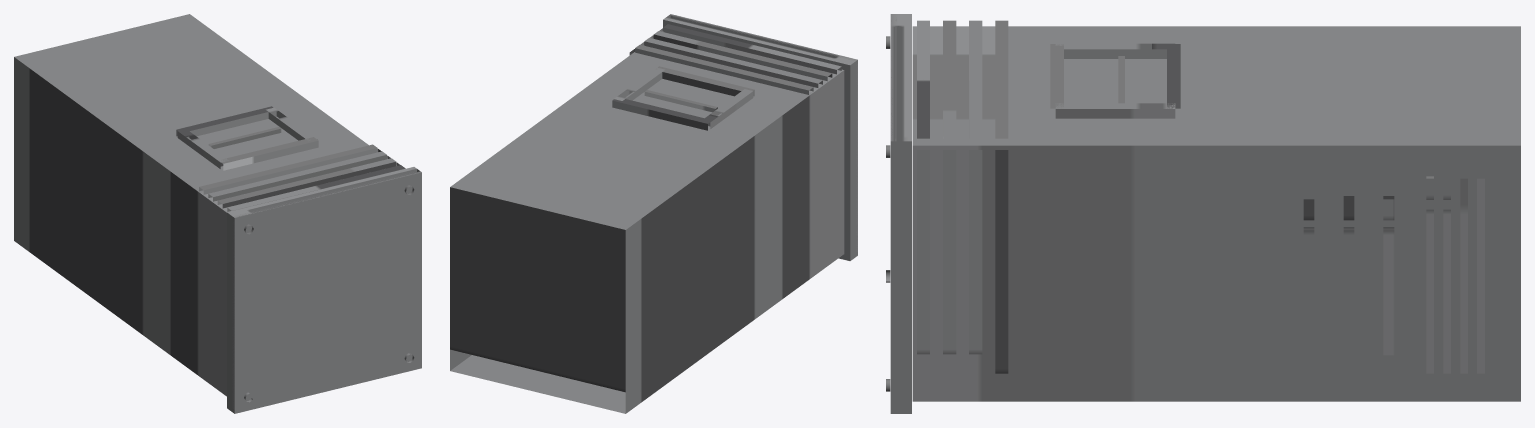
3 views of the same model, side by side, from view 1: azimuth 30°, elevation 25°; view 2: azimuth 150°, elevation 25°; view 3: azimuth 270°, elevation 25° (orthographic). The views are drawn at different scales.
Size of the model in its own units: 0.98 by 0.9845 by 2.07.
